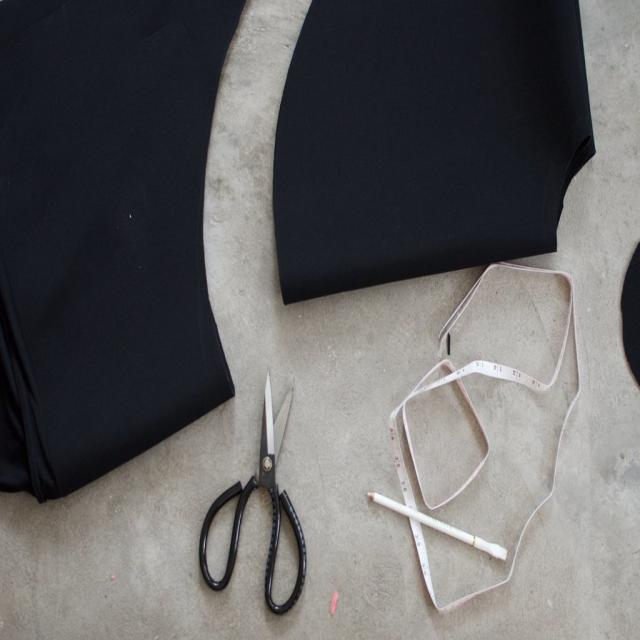scissors: (198, 370, 307, 614)
